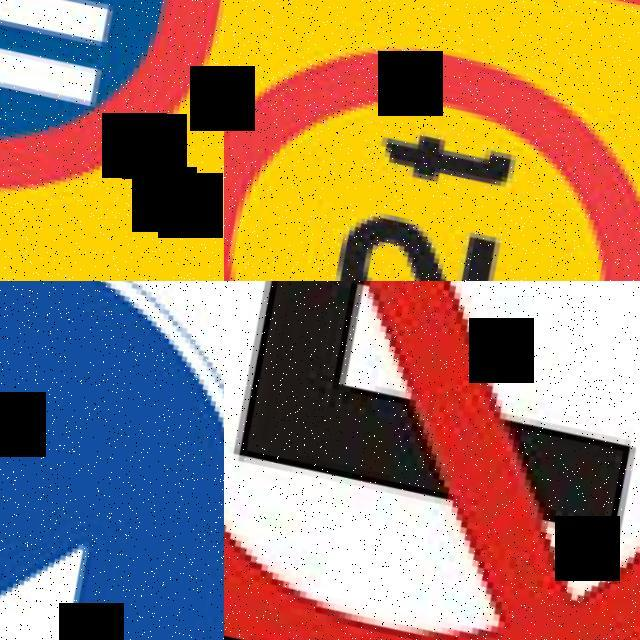82: (224, 0, 640, 281), (0, 0, 224, 281)
93: (0, 281, 224, 640)
No Right turn: (224, 281, 640, 640)
